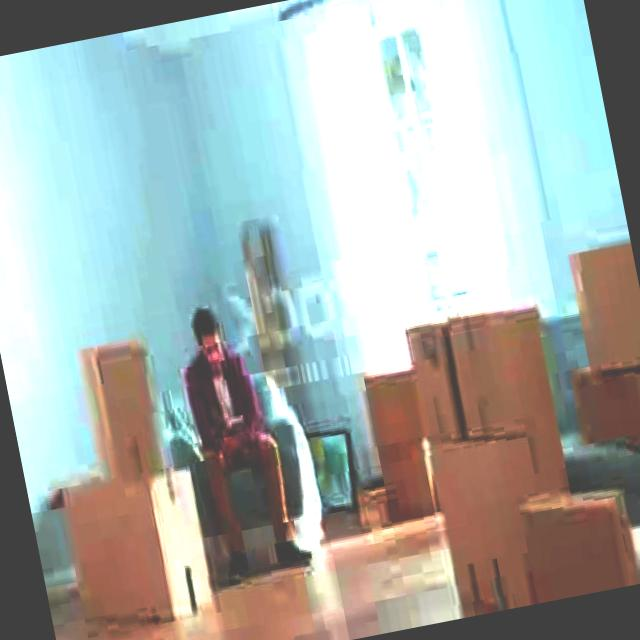Box: (61, 460, 218, 628), (422, 431, 541, 602), (518, 482, 638, 604), (451, 298, 558, 428), (86, 348, 176, 489), (573, 243, 640, 366), (402, 321, 466, 434), (569, 361, 640, 453)
